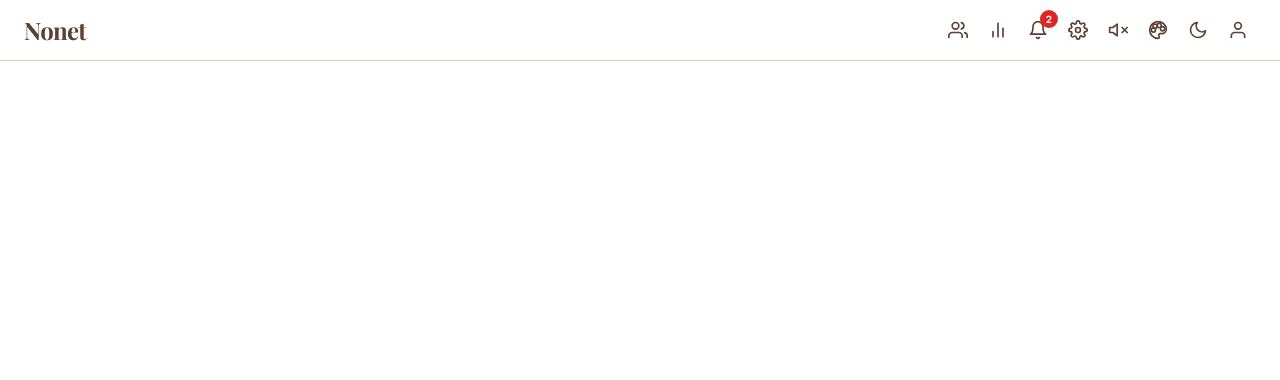
Header notification bell › clicking bell toggles notifications panel
Click the button with test id "nav-notifications": (1038, 30) left=1020, top=12, right=1056, bottom=48
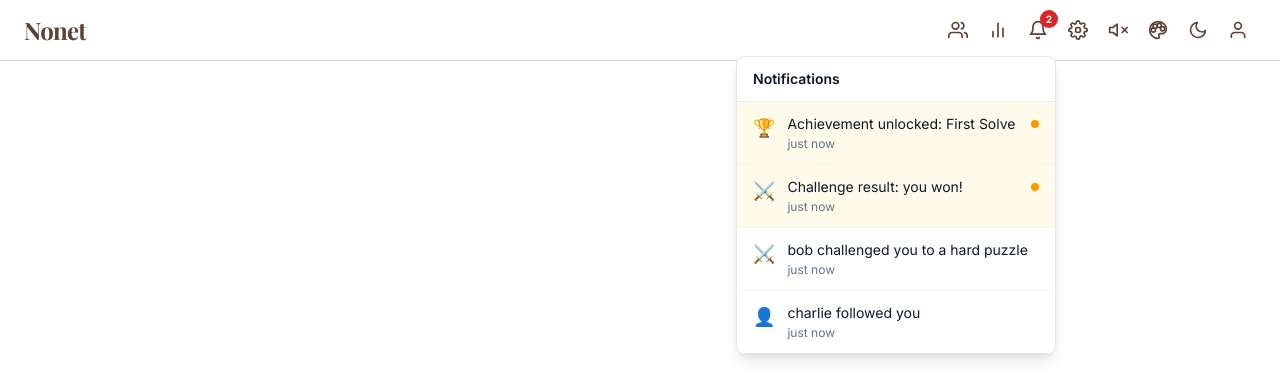
Expected: the element with test id "notifications-panel" is shown, left=736, top=56, right=1056, bottom=354
Click the button with test id "nav-notifications": (1038, 30) left=1020, top=12, right=1056, bottom=48
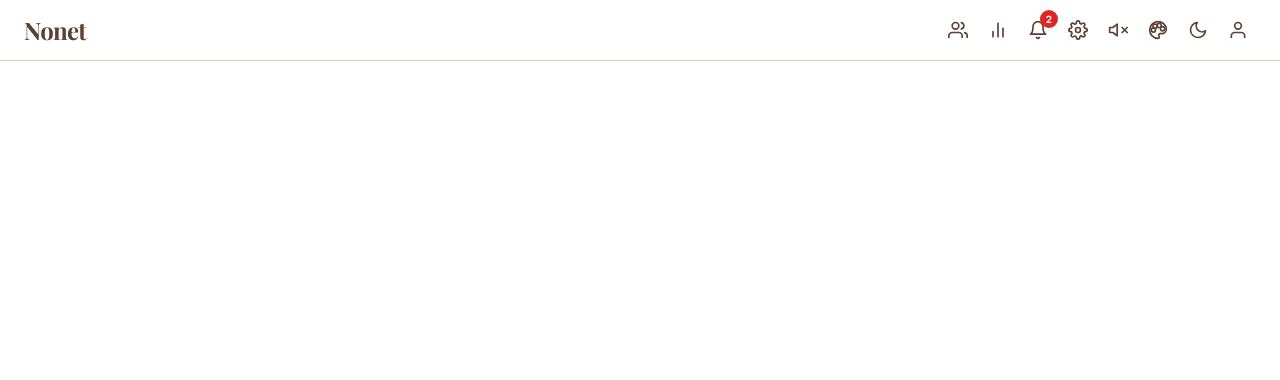
Expected: the element with test id "notifications-panel" is gone
